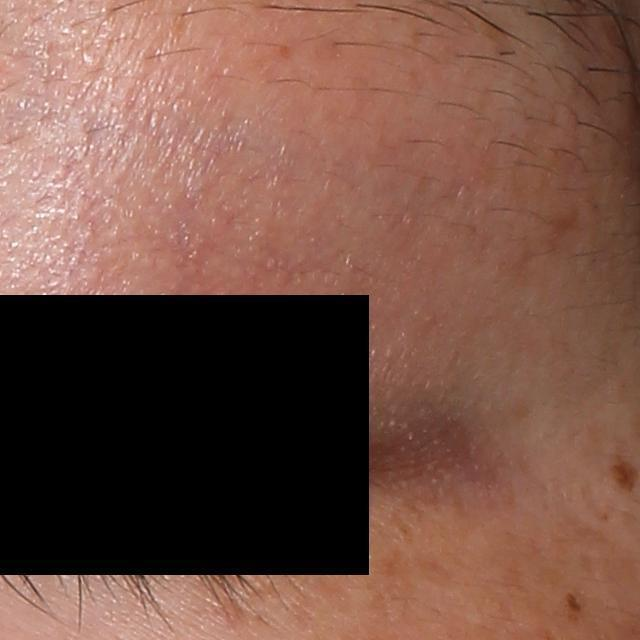melasma: (563, 590, 583, 615), (394, 517, 411, 542)
